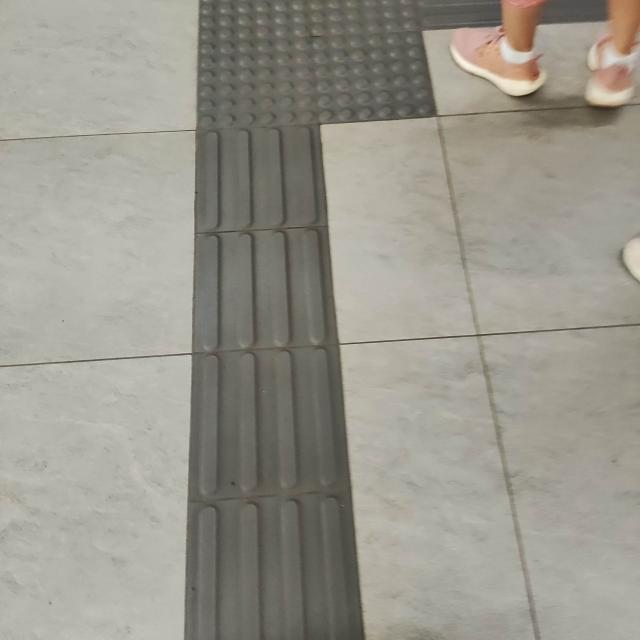lurus: (180, 125, 372, 640)
